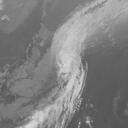cyclone: (49, 40, 89, 96)
